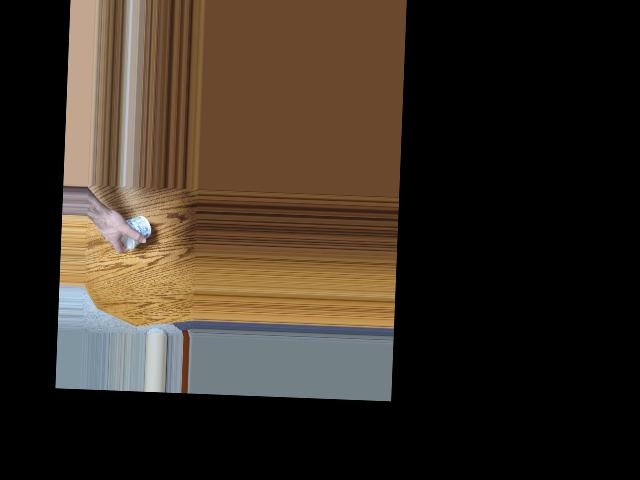cotage: (118, 212, 152, 251)
